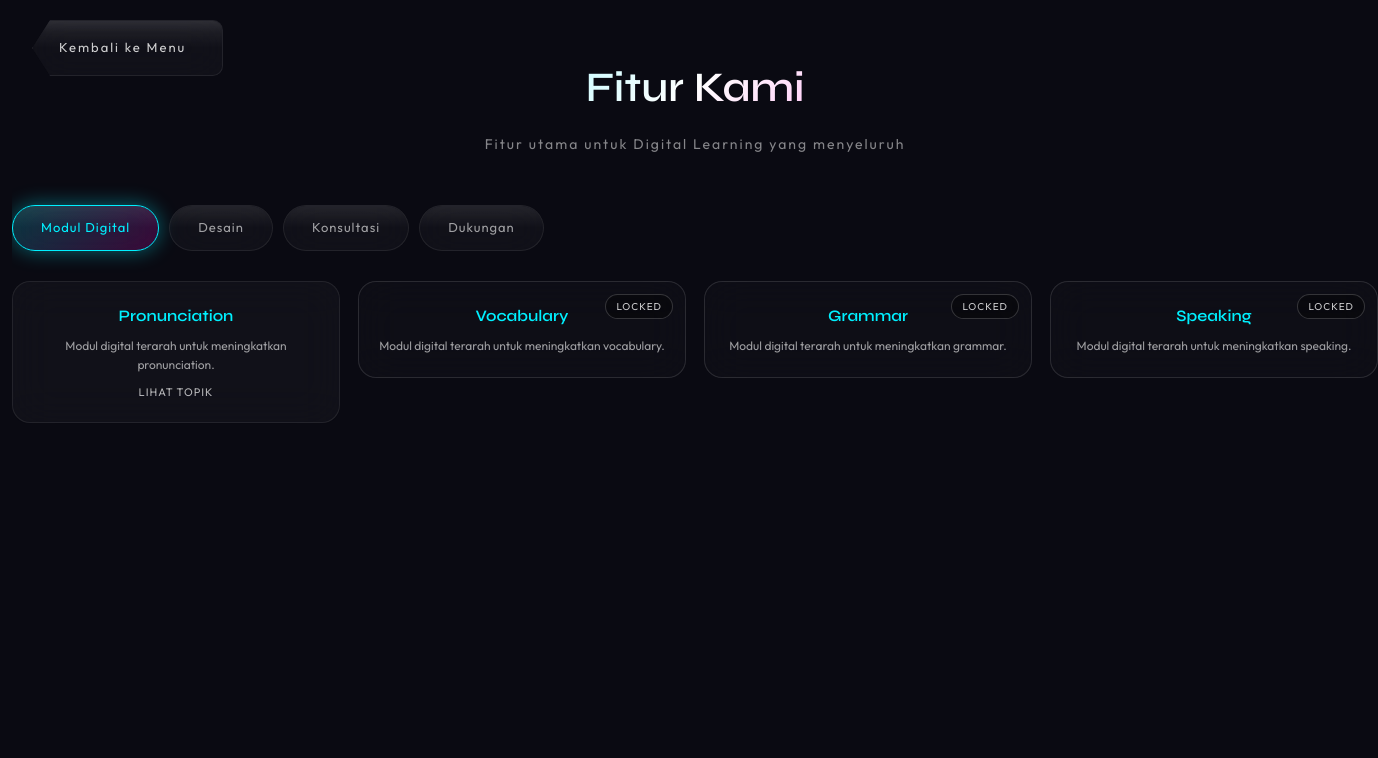
Test: Services section › toggles pronunciation topic dropdown label when pronunciation is clicked
Expected: the text "Lihat topik" is shown, [139,385,213,399]
Click the button "Pronunciation": (176, 352) [12,280,340,423]
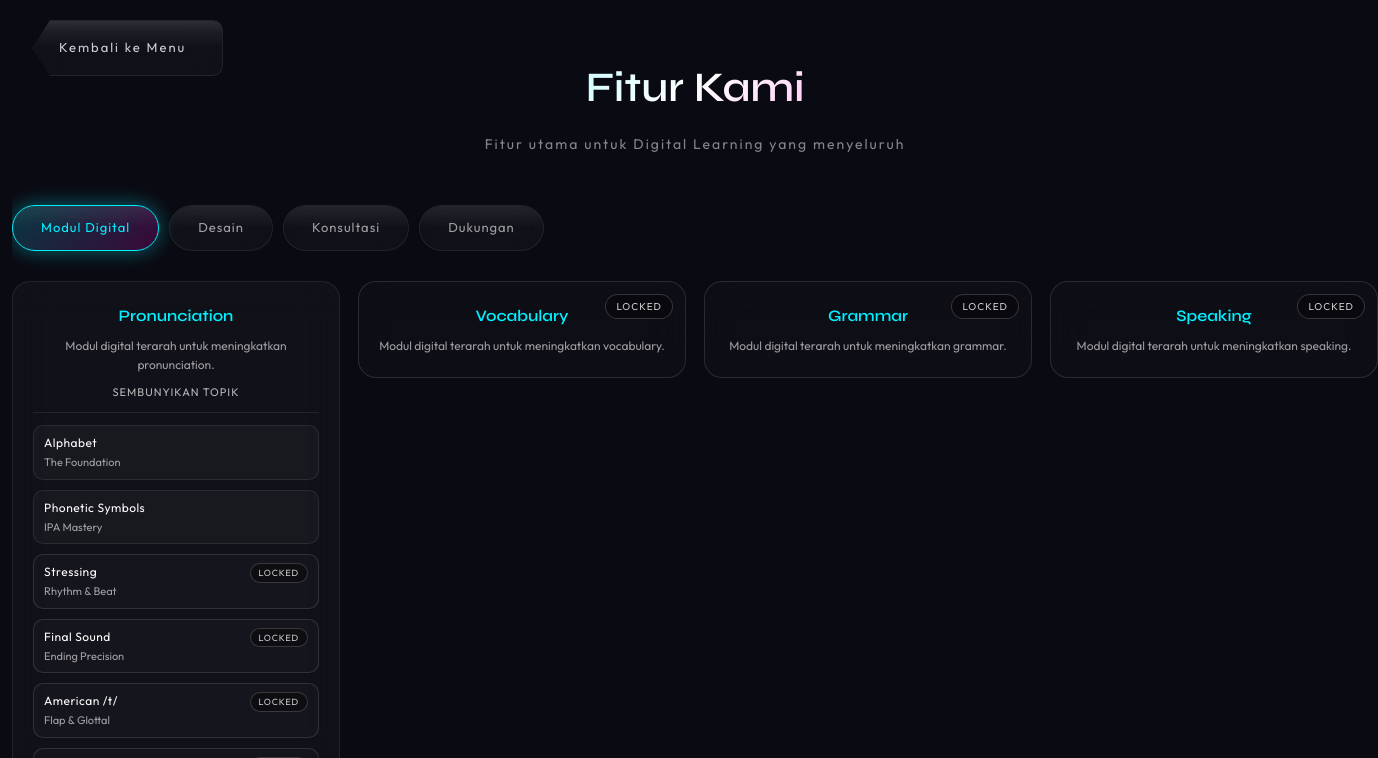
Expected: the text "Sembunyikan topik" is shown, [112,385,240,399]
